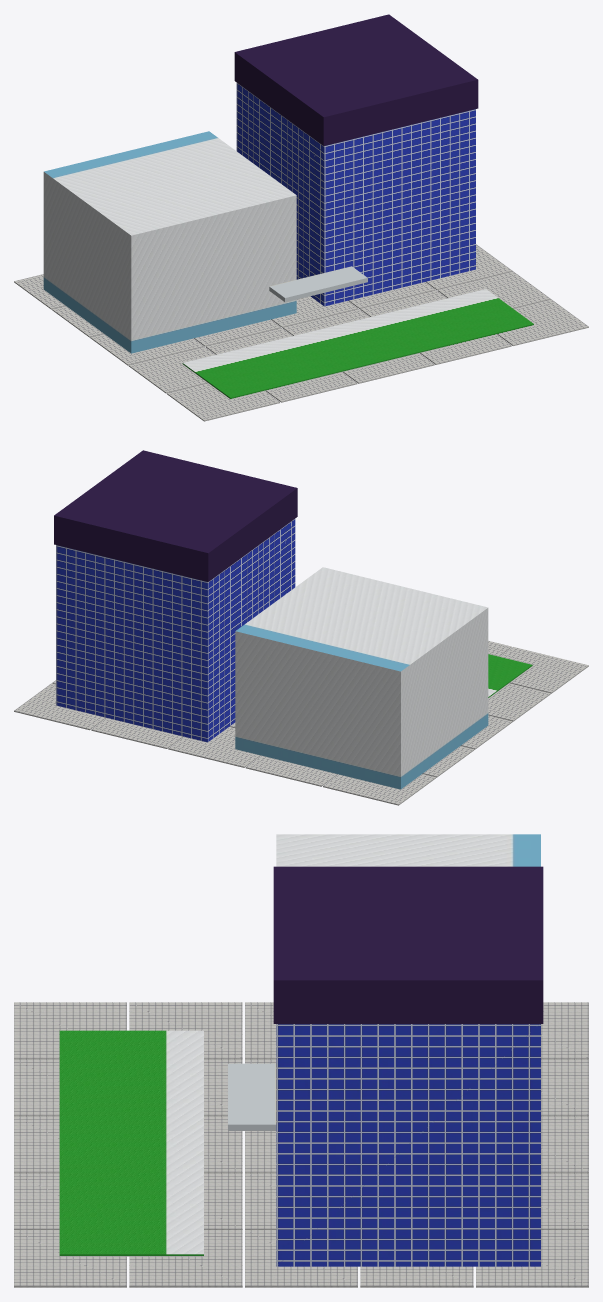
3 views of the same model, one above another, from view 1: azimuth 30°, elevation 25°; view 2: azimuth 150°, elevation 25°; view 3: azimuth 270°, elevation 25° (orthographic). The views are drawn at different scales.
Parts seen in each view (by area): view 1: 28185_B38_Eylon_Biomedical_RND_Center; view 2: 28185_B38_Eylon_Biomedical_RND_Center; view 3: 28185_B38_Eylon_Biomedical_RND_Center.
Part boxes in pixels (bbox=[...]): 28185_B38_Eylon_Biomedical_RND_Center: bbox=[14, 14, 588, 421]; 28185_B38_Eylon_Biomedical_RND_Center: bbox=[14, 450, 588, 805]; 28185_B38_Eylon_Biomedical_RND_Center: bbox=[14, 834, 588, 1287].
Size of the model in its own units: 55.8 by 26.5 by 47.8.
Materials: 1 (1 with a texture image).
